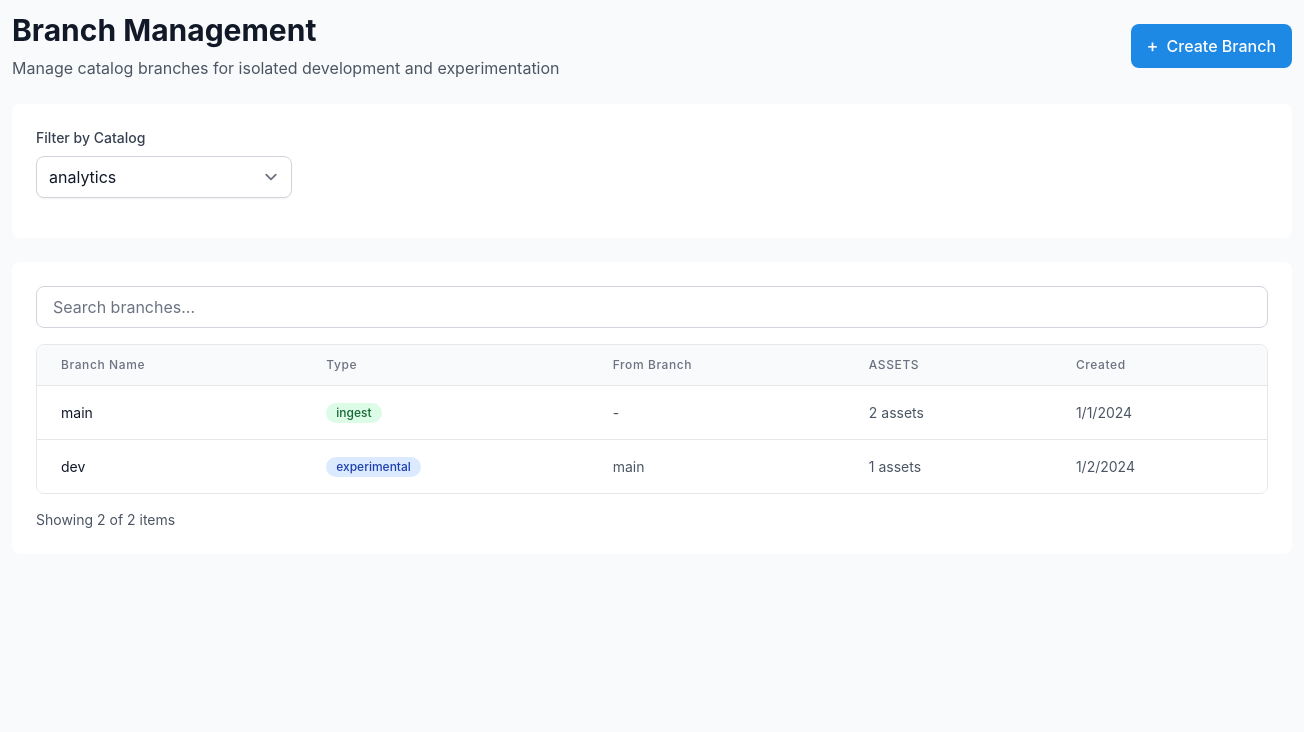
it: Branches List Page › filters branches when catalog selection changes
The width and height of the screenshot is (1304, 732).
Select "staging" in the dropdown showing "analytics" at (164, 177), box [36, 156, 292, 198]
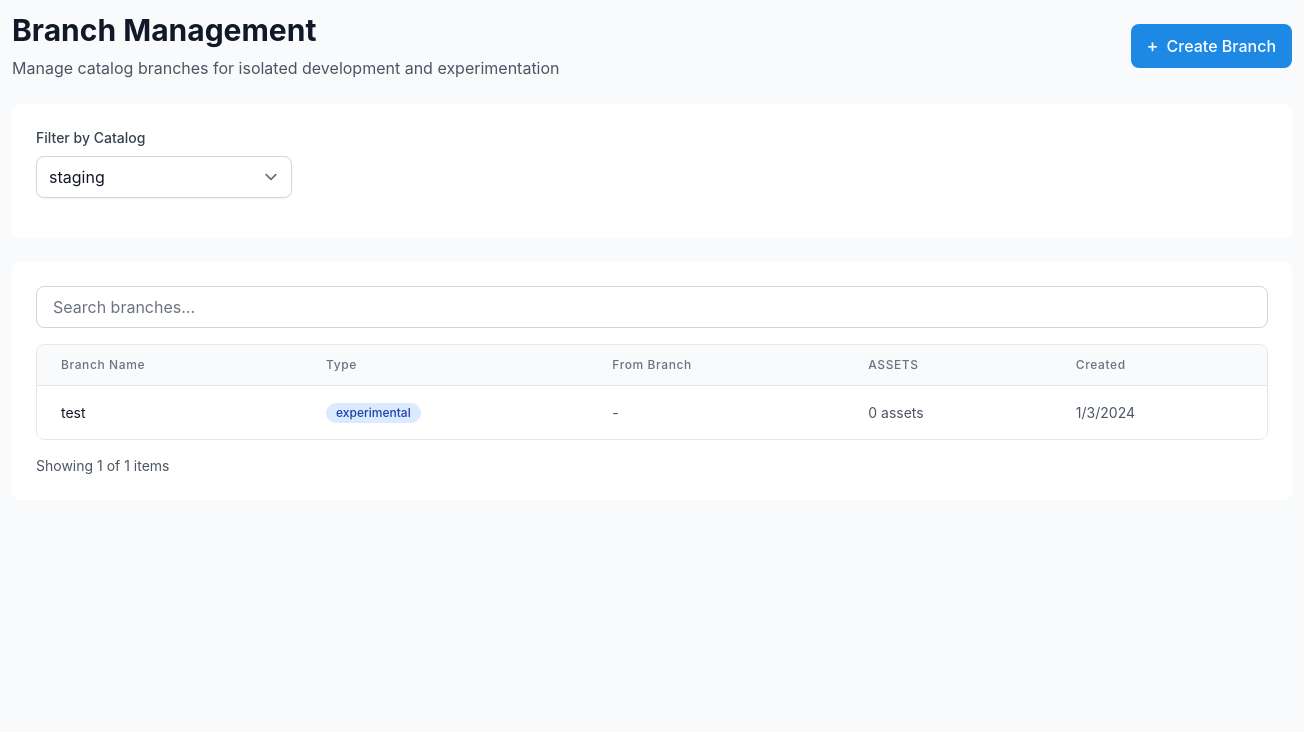
Expected: the text "test" is shown, [37, 386, 302, 439]
Expected: the text "main" is not shown
